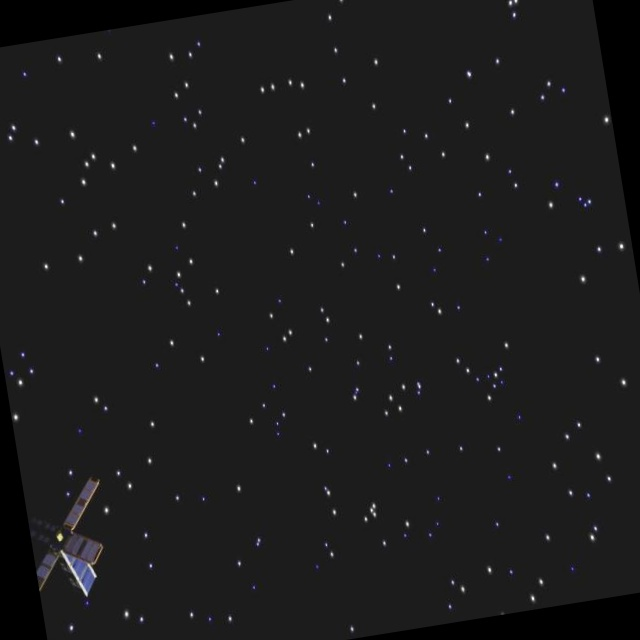satellite: (22, 473, 117, 608)
